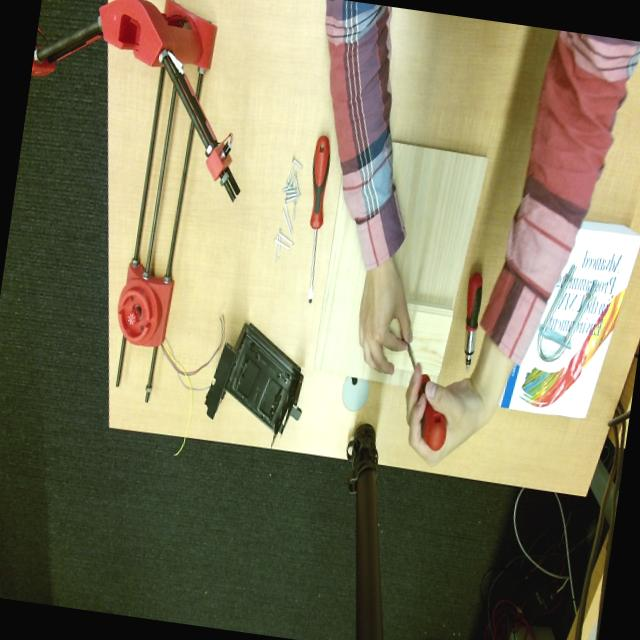screwdriver: (407, 344, 448, 451), (308, 136, 330, 303), (465, 272, 483, 370)
